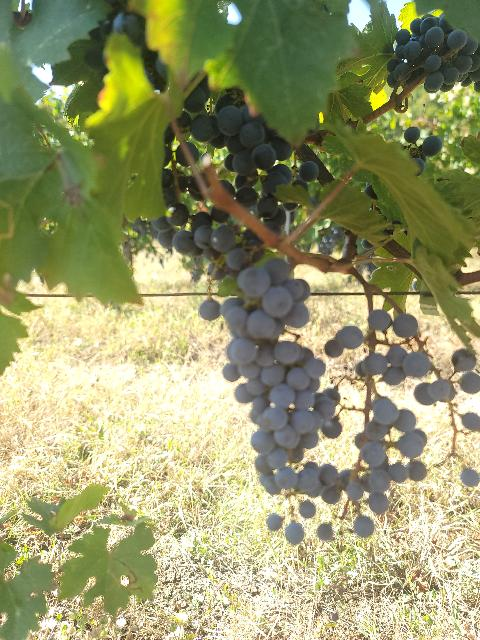grapes: (210, 258, 341, 494), (312, 309, 434, 536), (386, 14, 480, 94)
